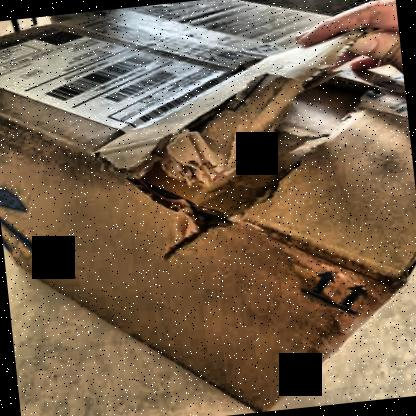defect parcel: (4, 28, 416, 287)
